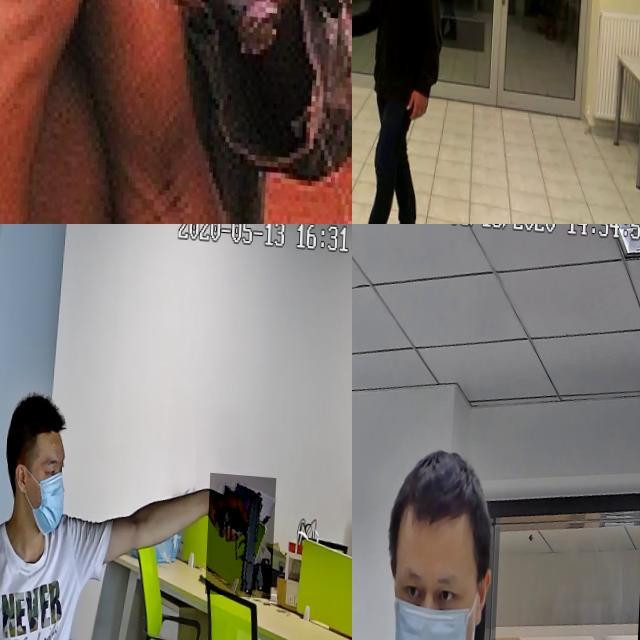-: (0, 0, 201, 125)
gun-knife-thesis - v11 Yolov5 augmented: (208, 465, 279, 590), (352, 469, 387, 631), (352, 0, 372, 27)
